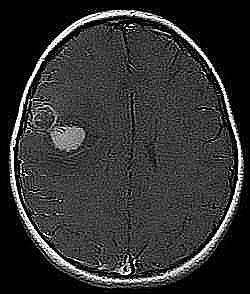Tumor: (23, 105, 59, 135), (50, 124, 86, 153)
